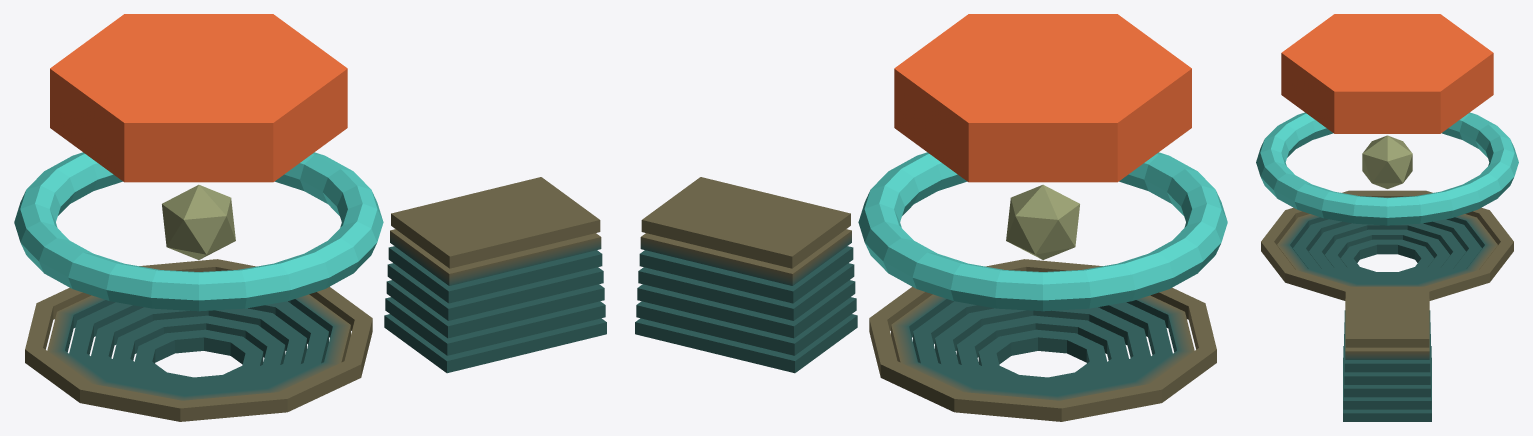
Rendered from exploded-mechanism.glb.
3 views of the same model, side by side, from view 1: azimuth 30°, elevation 25°; view 2: azimuth 150°, elevation 25°; view 3: azimuth 270°, elevation 25° (orthographic). The views are drawn at different scales.
Parts seen in each view (by area): view 1: part_claim, part_fencing, part_eventlog, part_lease; view 2: part_claim, part_fencing, part_eventlog, part_lease; view 3: part_claim, part_fencing, part_lease, part_eventlog.
Part boxes in pixels (bbox=[...]): part_claim: bbox=[50, 14, 347, 182]; part_fencing: bbox=[25, 259, 372, 421]; part_eventlog: bbox=[384, 177, 606, 373]; part_lease: bbox=[14, 152, 383, 311]; part_claim: bbox=[894, 14, 1191, 182]; part_fencing: bbox=[869, 259, 1216, 421]; part_eventlog: bbox=[635, 177, 857, 373]; part_lease: bbox=[858, 152, 1227, 311]; part_claim: bbox=[1281, 14, 1493, 133]; part_fencing: bbox=[1261, 190, 1513, 300]; part_lease: bbox=[1256, 112, 1518, 225]; part_eventlog: bbox=[1343, 286, 1431, 421].
Bounding box in the file's own units: 2.08 × 1.24 × 1.24.
